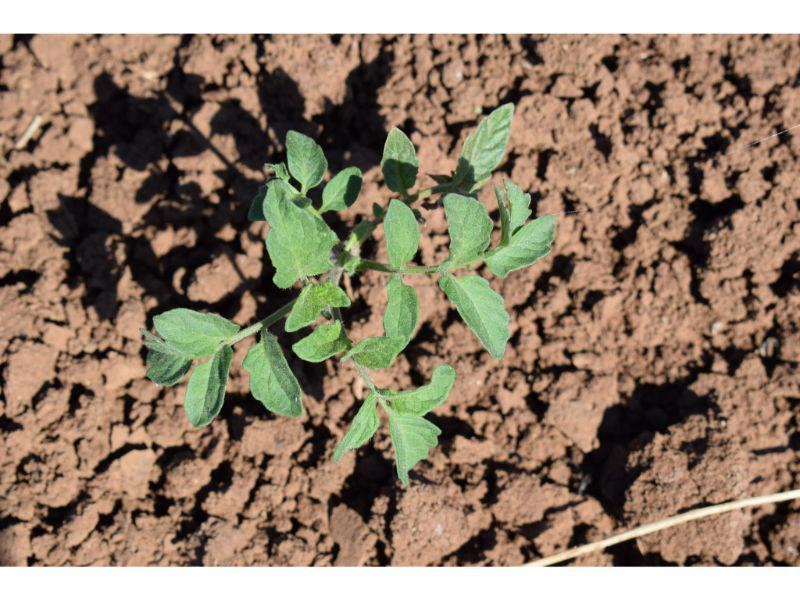tomato: (143, 101, 559, 487)
